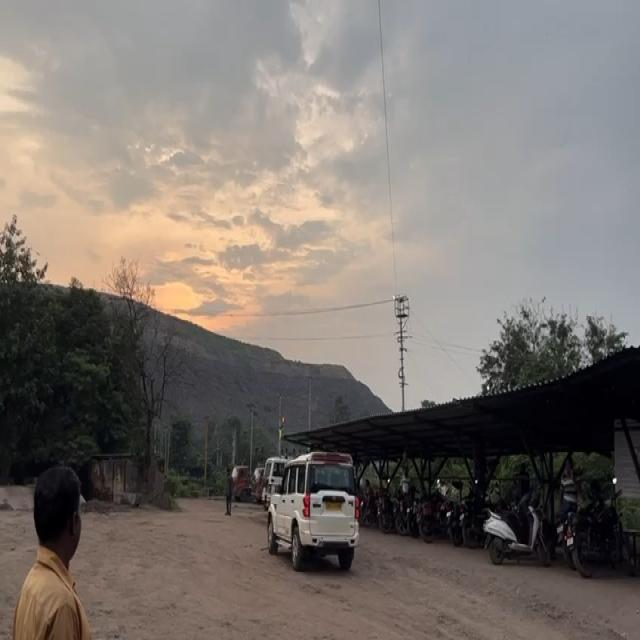light_vehicle: (266, 458, 358, 570)
